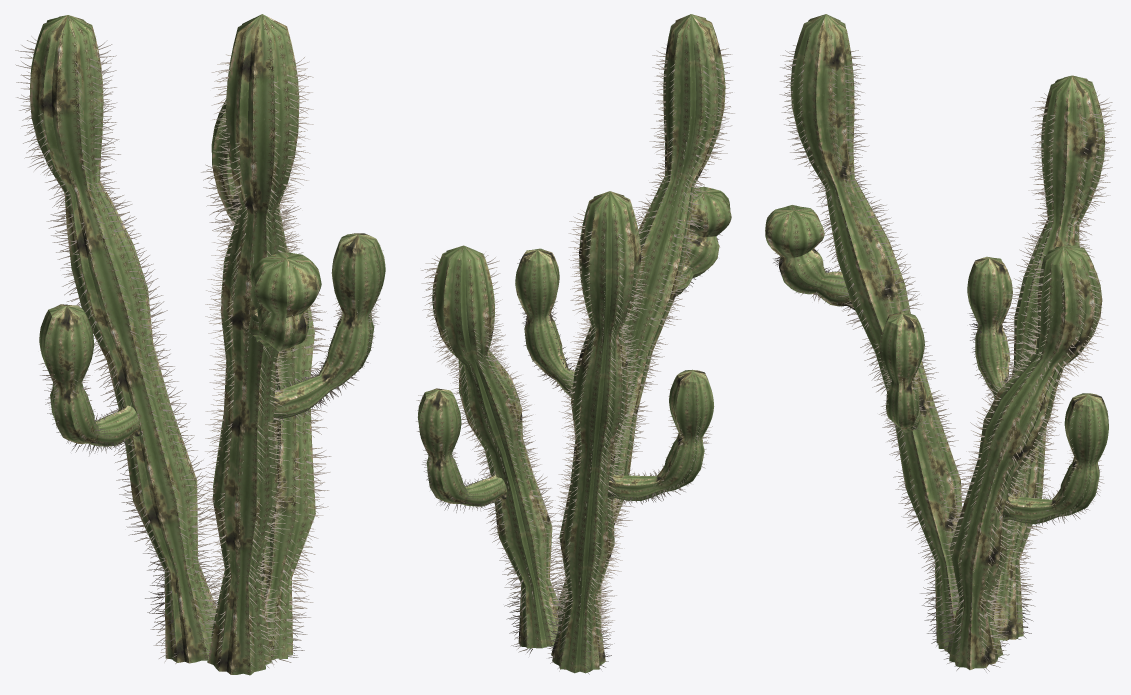
3 views of the same model, side by side, from view 1: azimuth 30°, elevation 25°; view 2: azimuth 150°, elevation 25°; view 3: azimuth 270°, elevation 25° (orthographic). The views are drawn at different scales.
Visible parts, largest first — view 1: Tree_0, Tree_1; view 2: Tree_0, Tree_1; view 3: Tree_0, Tree_1.
Boxes of the visible parts, x1,y1,x2,y2 form: Tree_0: (29,14,385,675); Tree_1: (15,36,383,671); Tree_0: (417,14,731,673); Tree_1: (416,44,734,674); Tree_0: (765,14,1108,669); Tree_1: (773,45,1115,672).
Size of the model in its own units: 0.5943 by 1.38 by 0.7163.
Materials: 2 (2 with a texture image).
